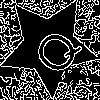Q: (24, 21, 84, 80)
